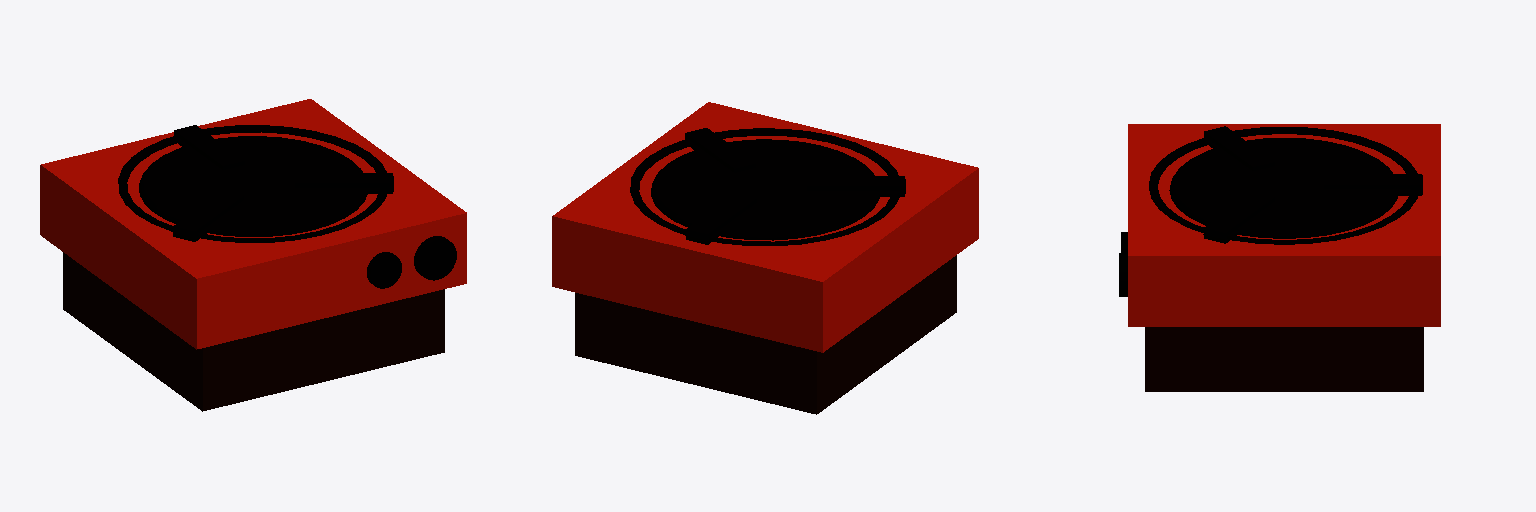
File: estufa.obj
The picture shows the model from 3 angles: view 1: azimuth 30°, elevation 25°; view 2: azimuth 150°, elevation 25°; view 3: azimuth 270°, elevation 25°; orthographic projection.
Visible parts, largest first — view 1: Cube, Circle.001, Cube.001, Circle, Cylinder, Cylinder.001; view 2: Cube, Circle.001, Cube.001, Circle; view 3: Cube, Circle.001, Cube.001, Circle.
Part boxes in pixels (left/top/right/bottom): Cube: left=40, top=99, right=466, bottom=411; Circle.001: left=139, top=136, right=367, bottom=236; Cube.001: left=173, top=125, right=393, bottom=241; Circle: left=118, top=125, right=388, bottom=242; Cylinder: left=414, top=236, right=456, bottom=280; Cylinder.001: left=367, top=252, right=401, bottom=288; Cube: left=552, top=102, right=978, bottom=414; Circle.001: left=651, top=139, right=879, bottom=240; Cube.001: left=685, top=128, right=905, bottom=244; Circle: left=630, top=128, right=900, bottom=245; Cube: left=1128, top=124, right=1440, bottom=391; Circle.001: left=1169, top=138, right=1397, bottom=238; Cube.001: left=1203, top=126, right=1422, bottom=243; Circle: left=1149, top=127, right=1418, bottom=244.
Bounding box in the file's own units: 2 × 1.08 × 2.06.